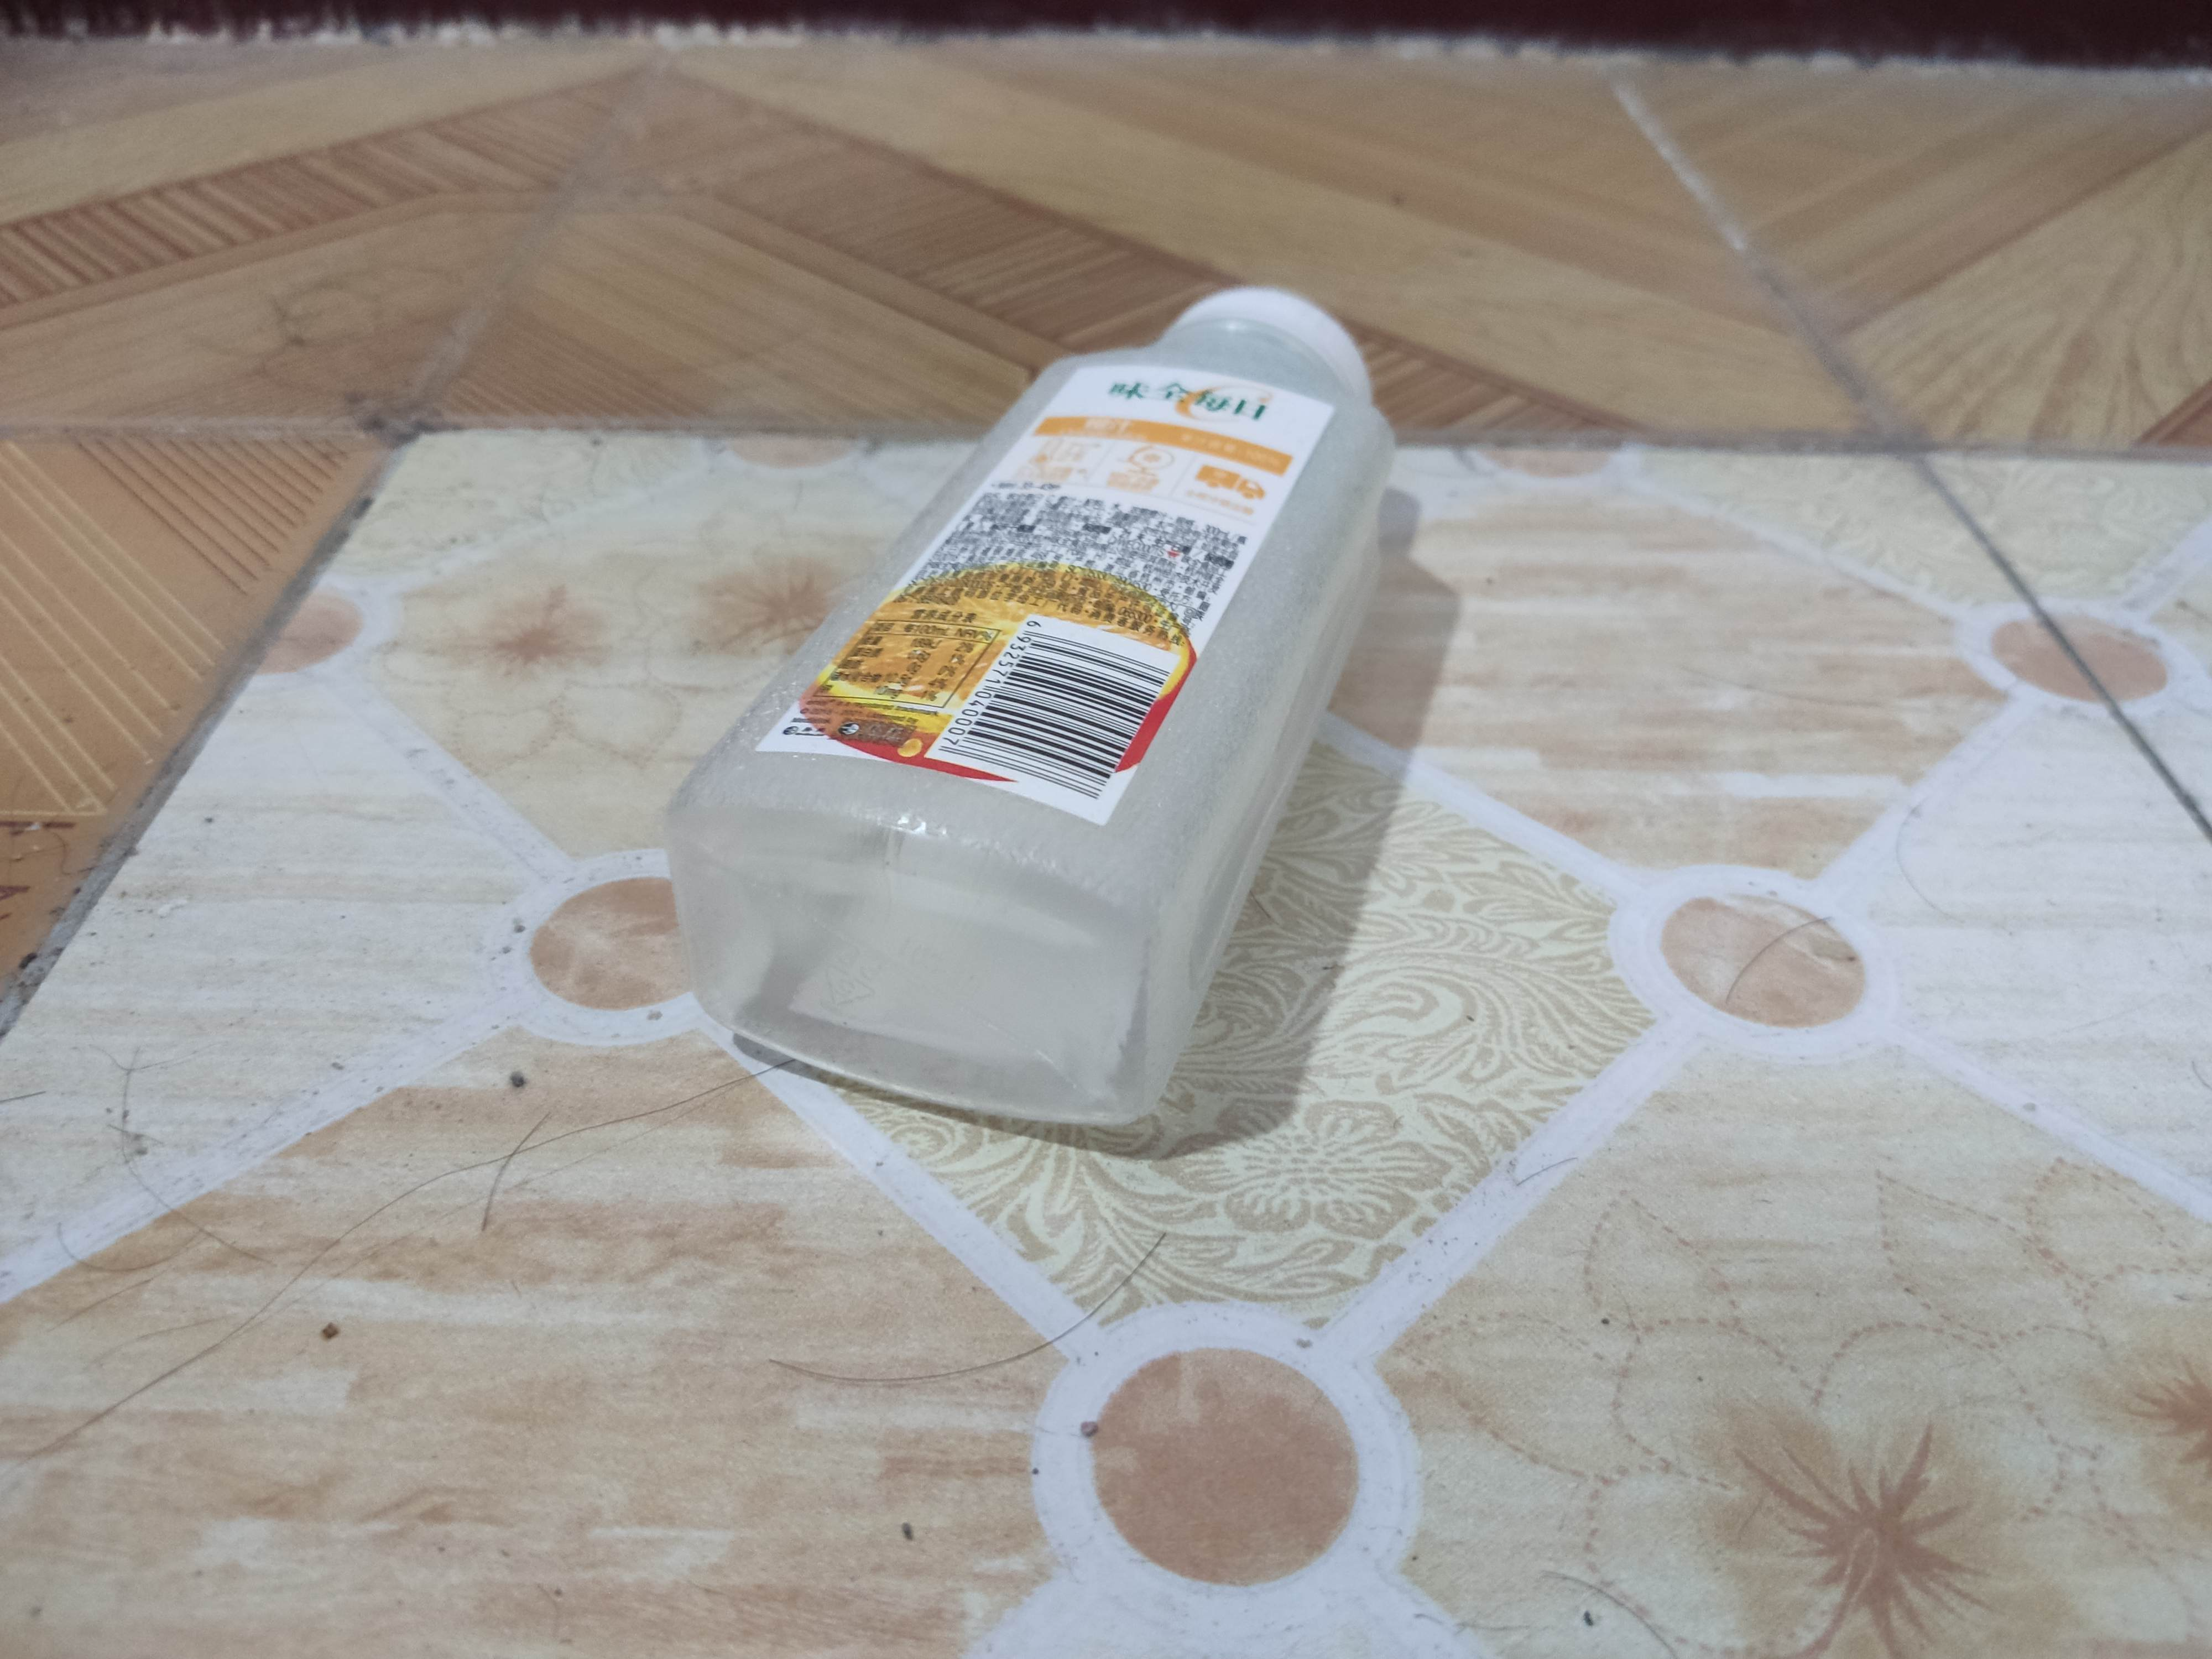Plastic Bottle: (646, 275, 1409, 1140)
